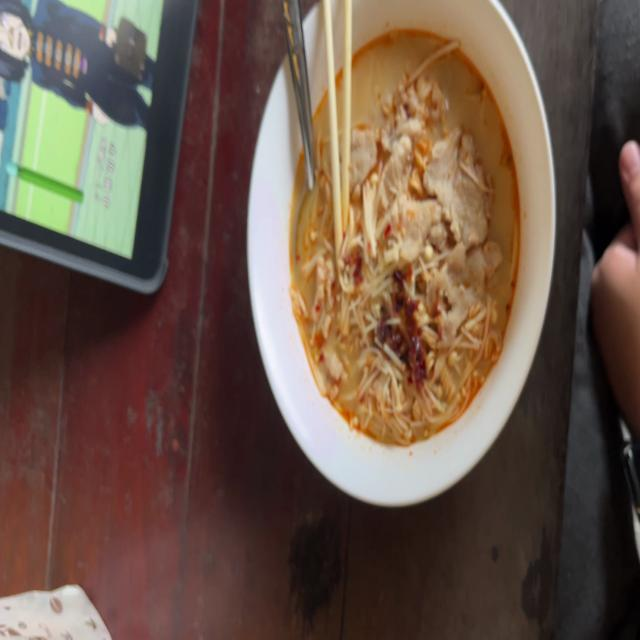noodle: (278, 13, 526, 453)
